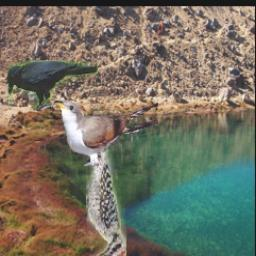Crow: (6, 60, 97, 110)
Cuckoo: (54, 99, 158, 166)
Woodpecker: (86, 107, 126, 256)
